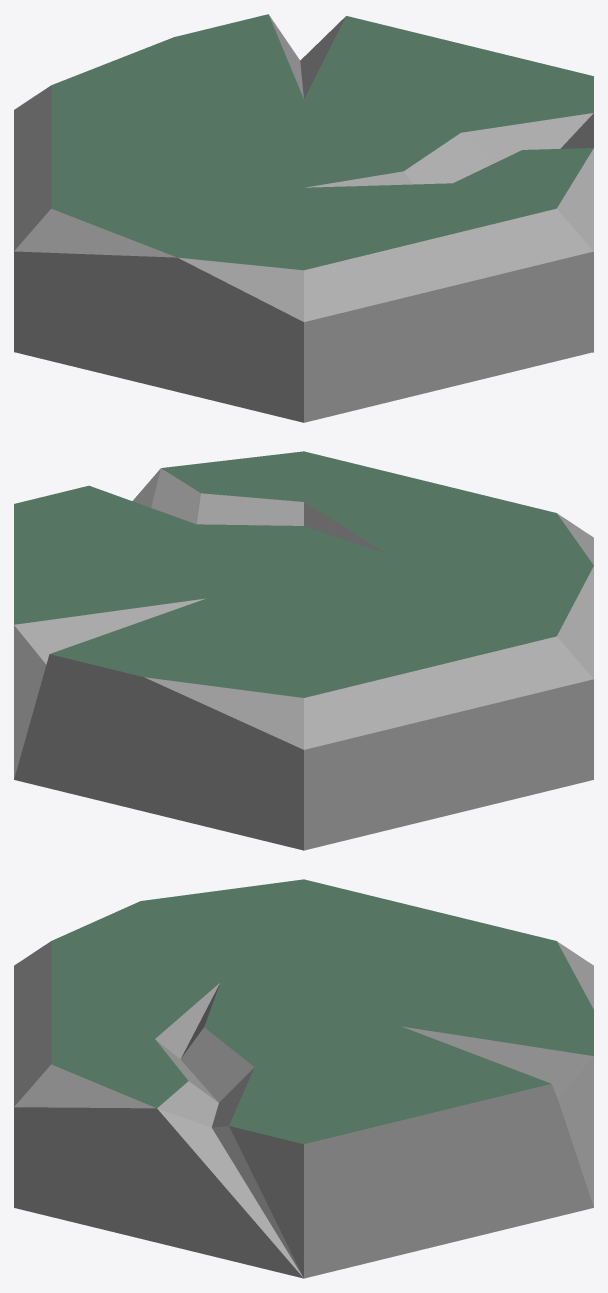
The model's file is Hex03.fbx.
3 renders of one model, top to bottom at view 1: azimuth 30°, elevation 25°; view 2: azimuth 150°, elevation 25°; view 3: azimuth 270°, elevation 25°, orthographic.
Visible parts, largest first — view 1: Hex03; view 2: Hex03; view 3: Hex03.
Part boxes in pixels (<box>): Hex03: <box>14,14,593,422</box>; Hex03: <box>14,451,593,850</box>; Hex03: <box>14,879,593,1278</box>.
Bounding box in the file's own units: 1.67 × 0.371 × 1.44.
